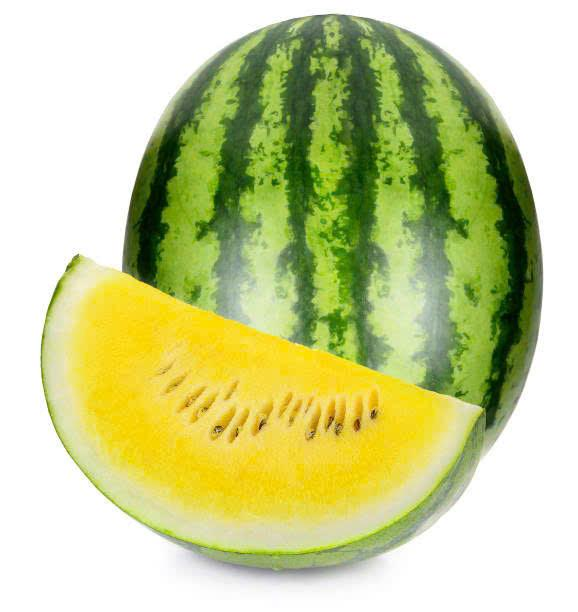watermelon: (27, 247, 489, 578), (117, 9, 548, 320)
